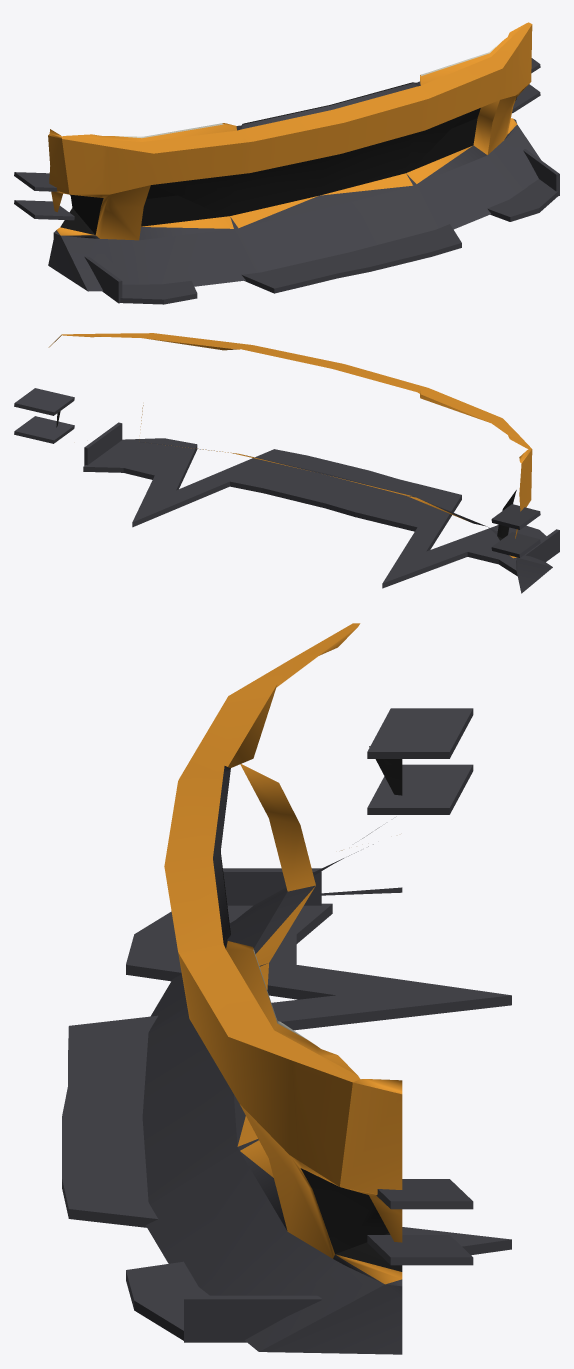
Rendered from protoCompact_frontBumper_kurogane.glb.
The picture shows the model from 3 angles, top to bottom: view 1: azimuth 30°, elevation 25°; view 2: azimuth 150°, elevation 25°; view 3: azimuth 270°, elevation 25°; orthographic projection. The views are drawn at different scales.
Visible parts, largest first — view 1: frontBumper_kurogane; view 2: frontBumper_kurogane; view 3: frontBumper_kurogane.
Part boxes in pixels (left/top/right/bottom): frontBumper_kurogane: left=14, top=22, right=559, bottom=304; frontBumper_kurogane: left=14, top=333, right=559, bottom=593; frontBumper_kurogane: left=62, top=623, right=511, bottom=1354.
Size of the model in its own units: 1.7 by 0.4433 by 0.6553.
